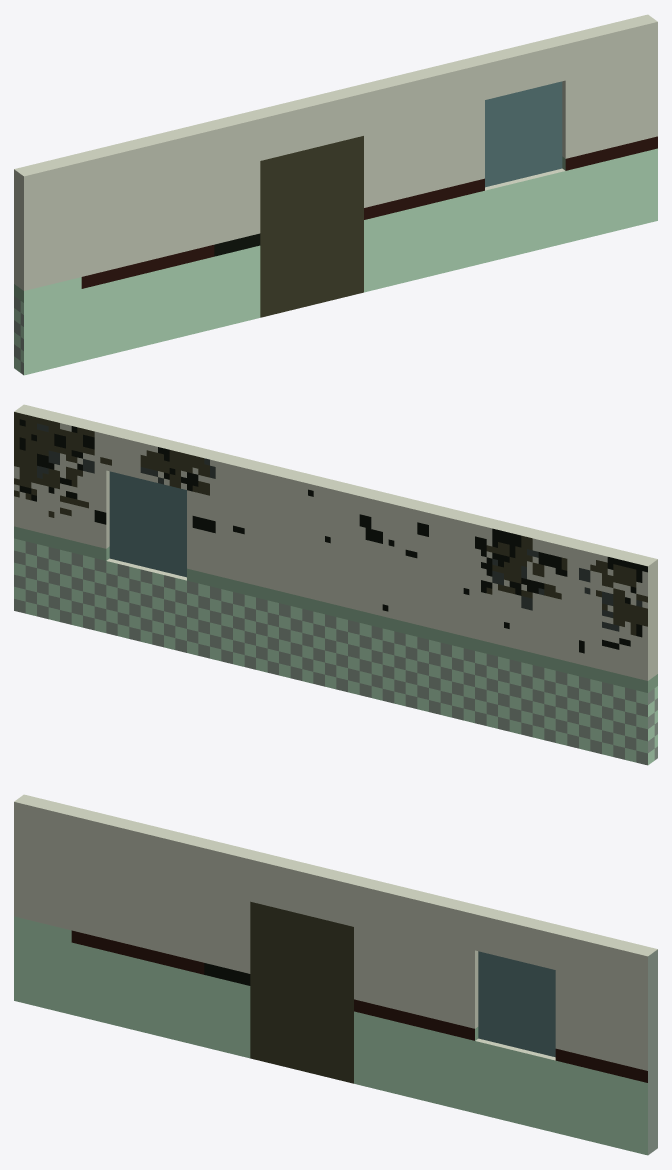
File: ściana prawa.fbx
3 views of the same model, one above another, from view 1: azimuth 30°, elevation 25°; view 2: azimuth 150°, elevation 25°; view 3: azimuth 330°, elevation 25° (orthographic).
Parts seen in each view (by area): view 1: ściana prawa, okno 004; view 2: ściana prawa, okno 004; view 3: ściana prawa, okno 004.
Boxes of the visible parts, x1,y1,x2,y2 form: ściana prawa: (14, 14, 657, 375); okno 004: (485, 81, 562, 187); ściana prawa: (14, 404, 657, 765); okno 004: (109, 471, 186, 577); ściana prawa: (14, 794, 657, 1155); okno 004: (478, 951, 555, 1057).
Size of the model in its own units: 110 by 33 by 3.
